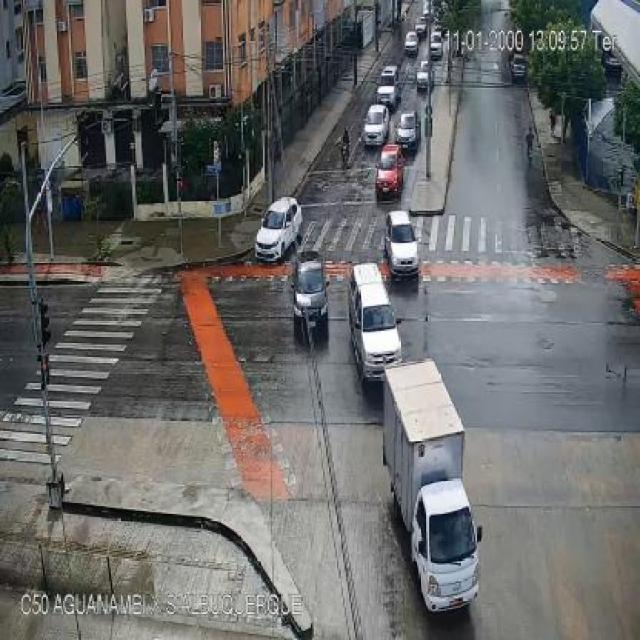Car: (289, 250, 329, 335), (256, 196, 302, 262), (384, 212, 420, 274), (392, 109, 422, 154), (362, 104, 392, 147), (376, 65, 399, 104), (416, 62, 434, 92), (508, 56, 528, 79), (404, 28, 419, 52), (287, 87, 289, 89)
Cycle: (339, 141, 352, 167)
Truck: (376, 356, 489, 615)
Van: (344, 261, 404, 382), (375, 138, 404, 205)
